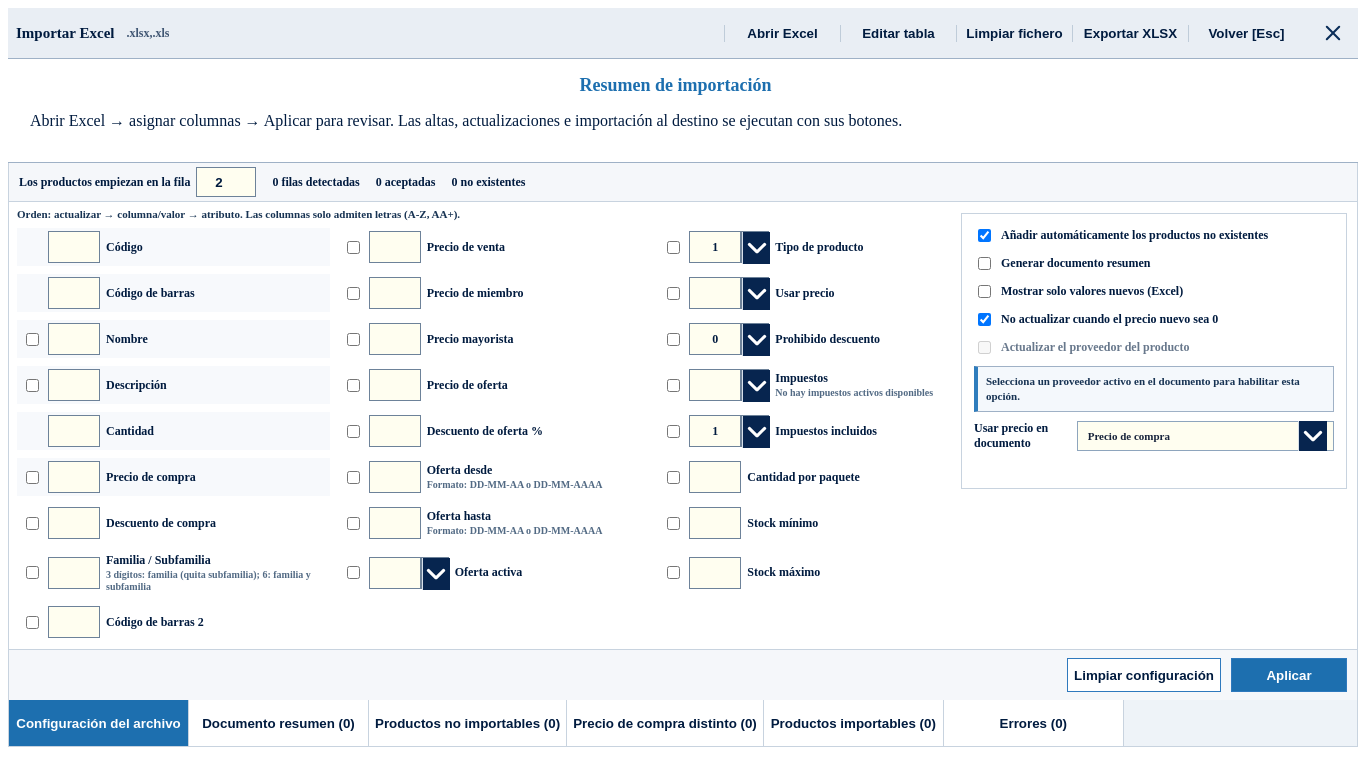
Test: SharedExcelImportDialog › loads the store default asynchronously without replacing a manual choice (true)
Type "B" into the dropdown named "Impuestos Columna o valor".
click(715, 385); type("B")  # box [689,369,741,401]
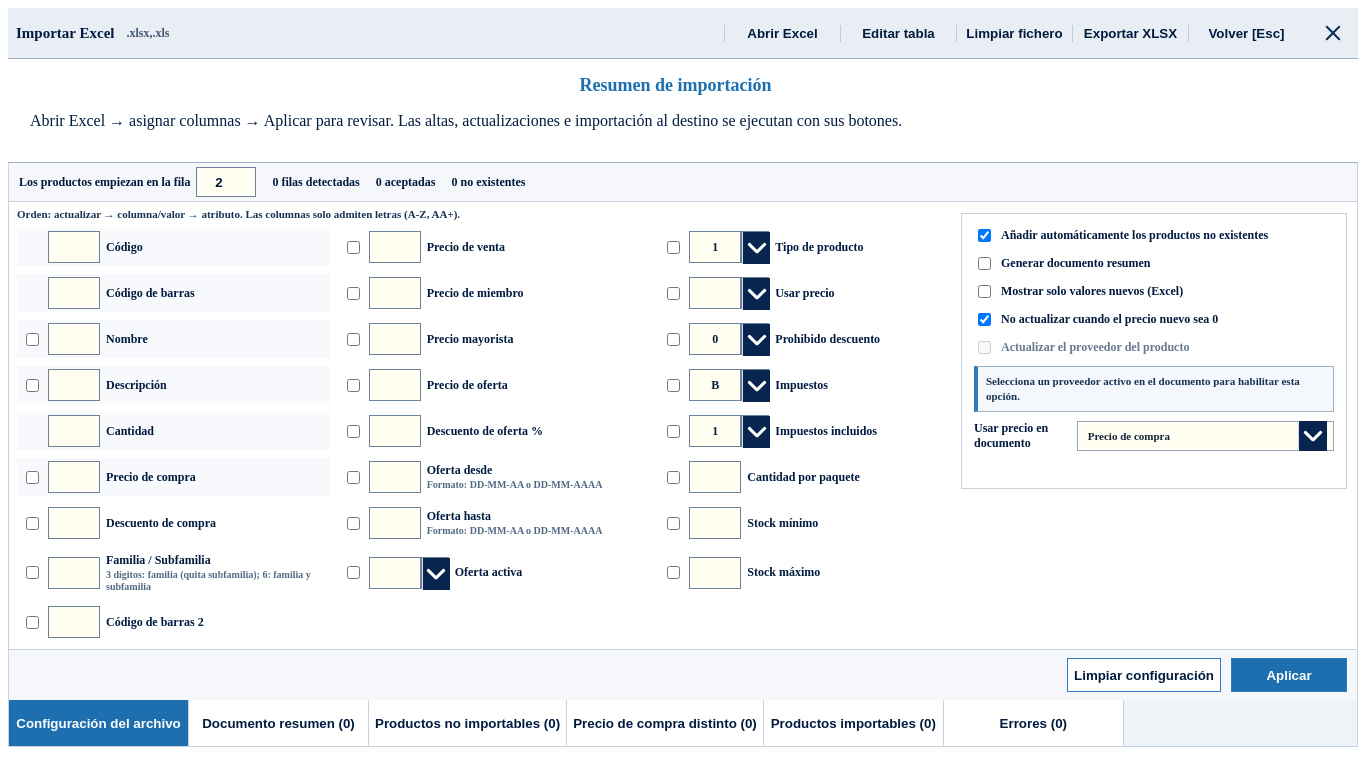
Click the button named "Impuestos".
click(755, 385)  # box [741,369,769,401]
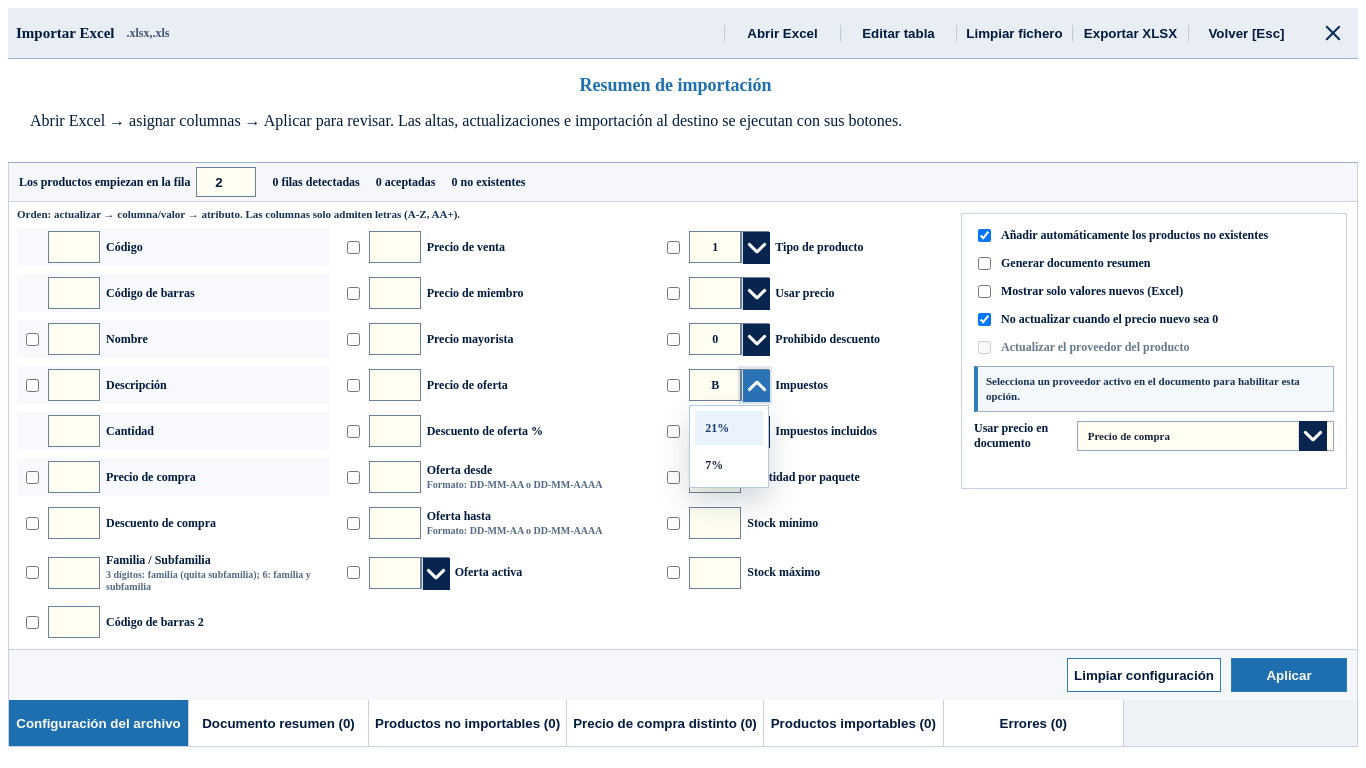
Expected: the option "7%" is shown, [695,448,763,482]
